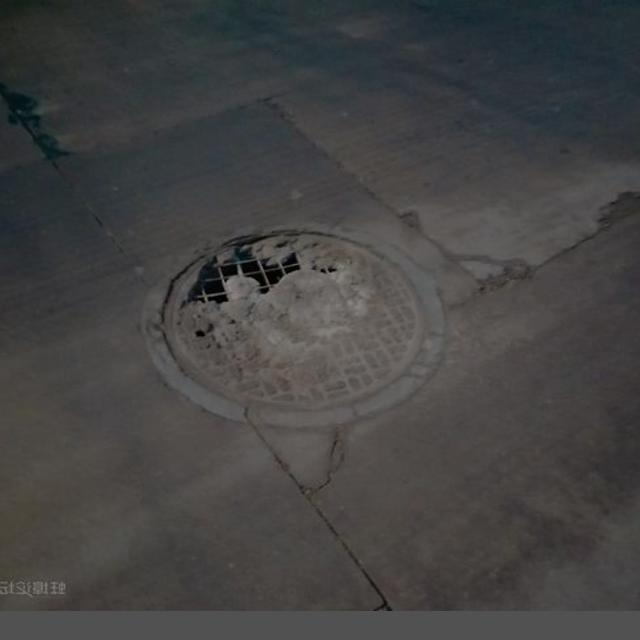broke: (137, 212, 456, 424)
